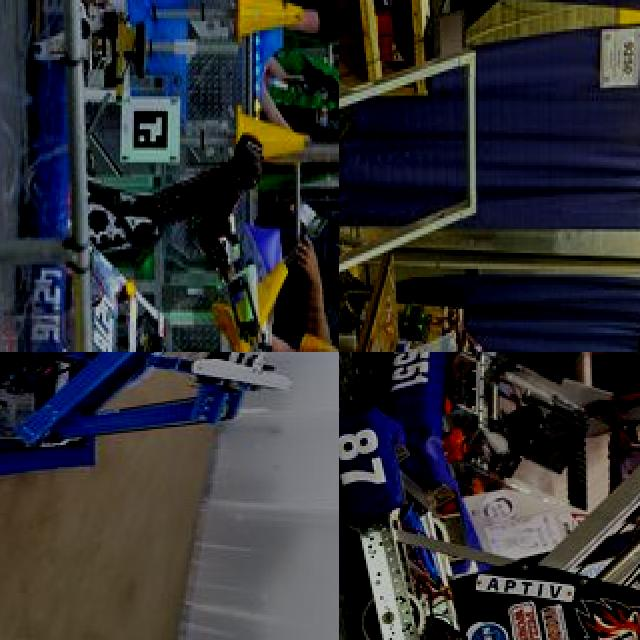FRC-Robots: (339, 352, 640, 640), (0, 352, 315, 514), (339, 14, 494, 337), (380, 352, 640, 524), (31, 0, 161, 270), (0, 252, 286, 352)
